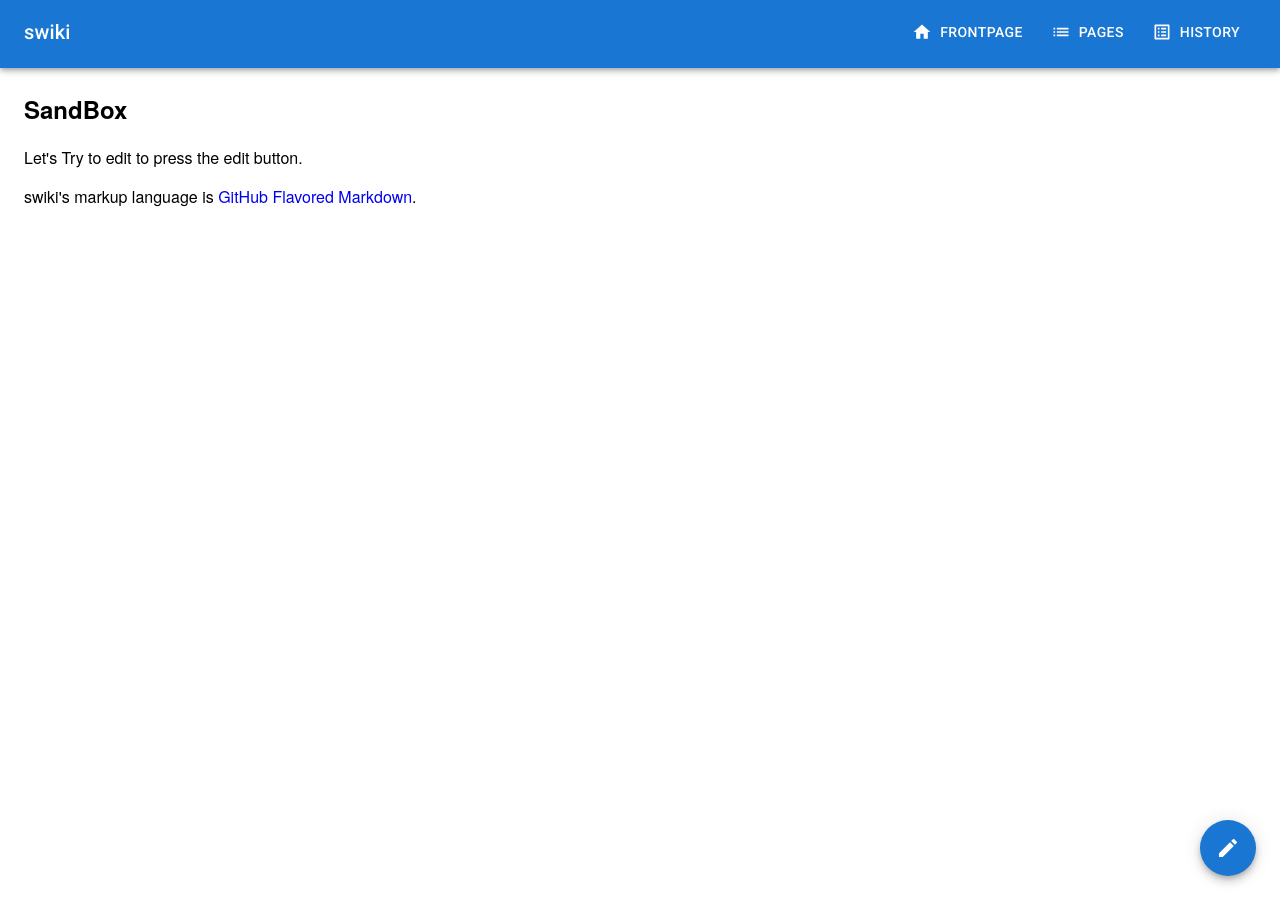
Test: route › SandBox › should move to SandBox edit page when edit Fab is pressed
Click the button named "Edit" at (1228, 848), box [1200, 820, 1256, 876]
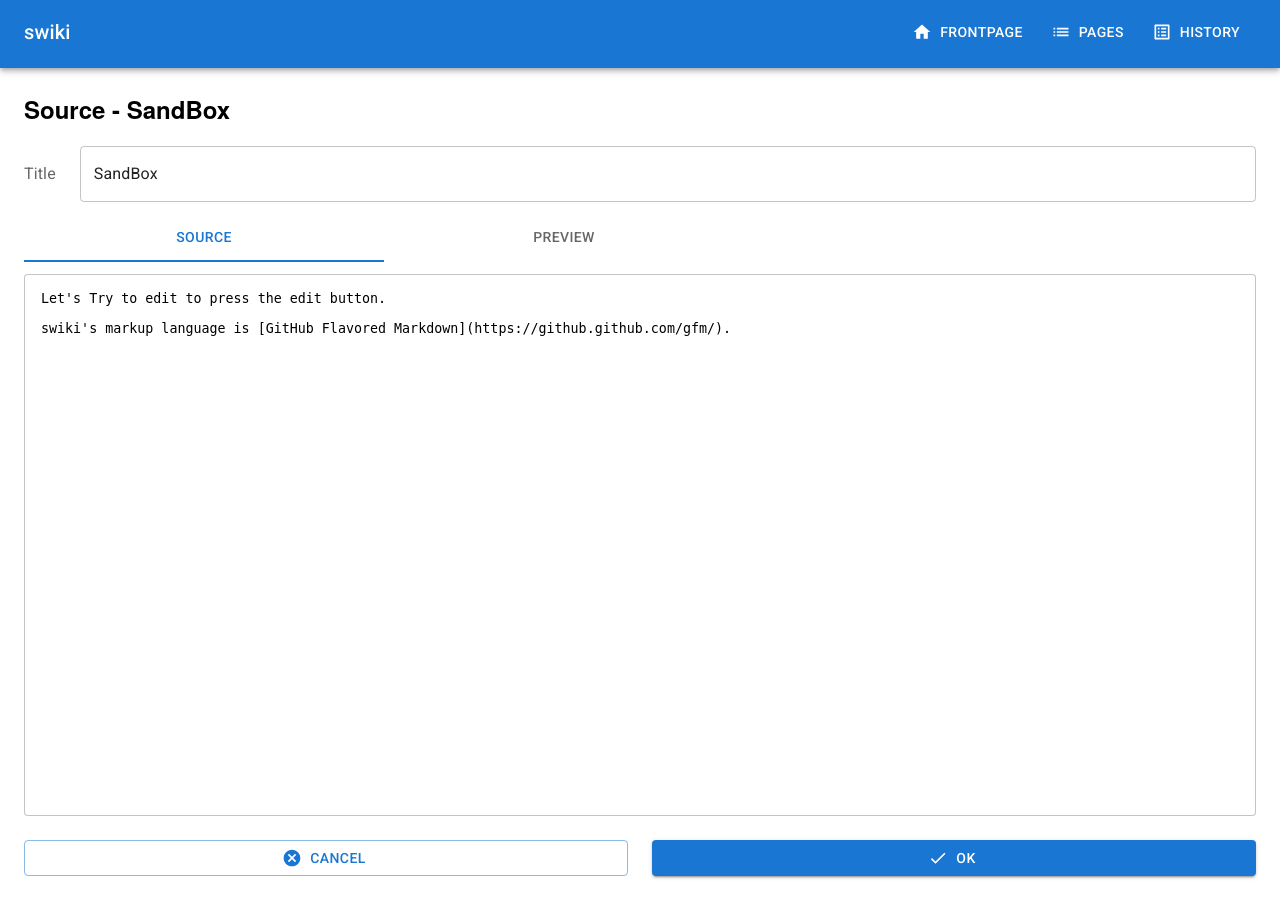
Expected: the heading "Source - SandBox" is shown, [24, 92, 230, 126]
